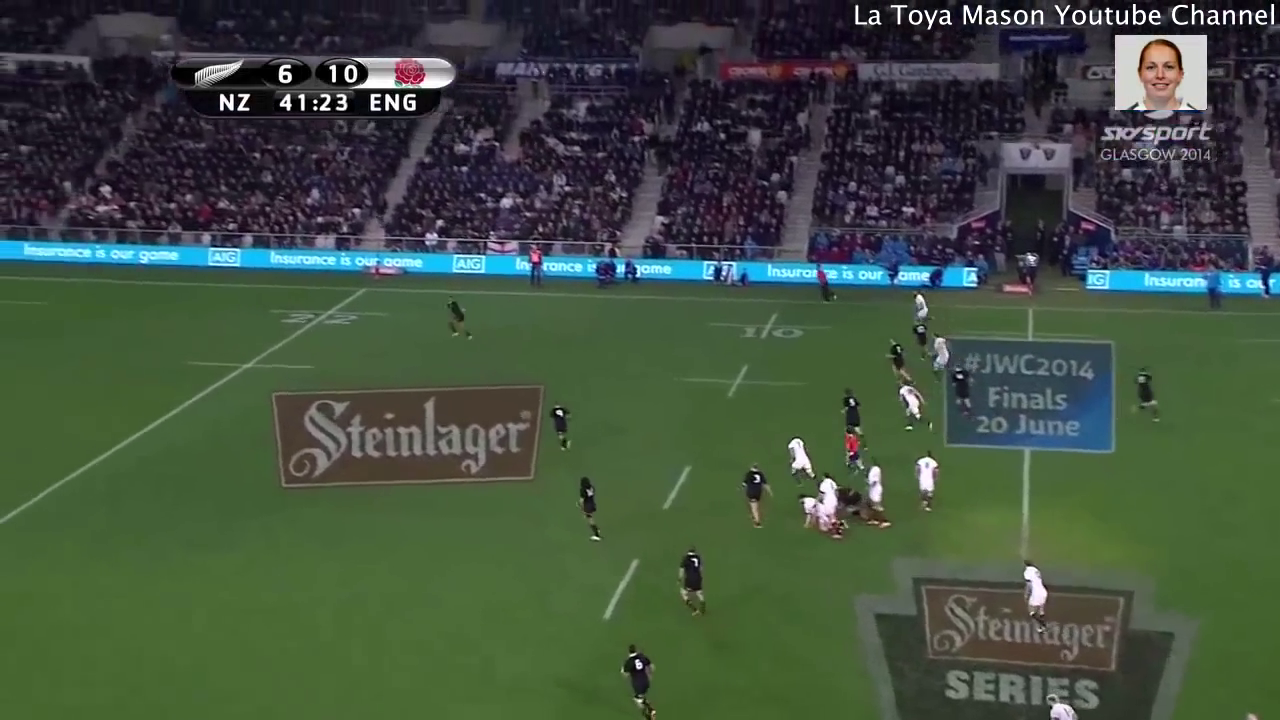10_metre: (669, 358, 817, 405), (701, 308, 838, 346)
player: (612, 636, 671, 720), (667, 533, 714, 623), (886, 376, 941, 444), (1016, 549, 1054, 641), (569, 468, 611, 548), (737, 456, 778, 532), (825, 472, 879, 529), (792, 490, 850, 541), (858, 455, 896, 532), (1127, 364, 1170, 432), (782, 428, 824, 496), (538, 395, 580, 459), (436, 290, 480, 347), (879, 333, 917, 392), (911, 443, 941, 517), (901, 317, 941, 371), (947, 361, 981, 420), (837, 423, 871, 478), (834, 385, 868, 439), (811, 467, 842, 524), (909, 284, 939, 338), (927, 327, 958, 379), (1040, 684, 1086, 712)
